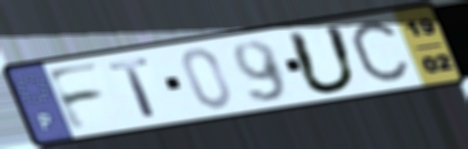0: (179, 46, 235, 112)
9: (231, 37, 291, 103)
C: (346, 16, 414, 89)
F: (42, 60, 109, 134)
T: (105, 56, 162, 120)
U: (283, 22, 362, 96)
